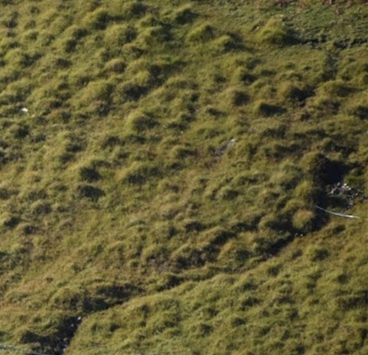tube: (312, 200, 361, 221)
white_in_green: (3, 88, 47, 128)
